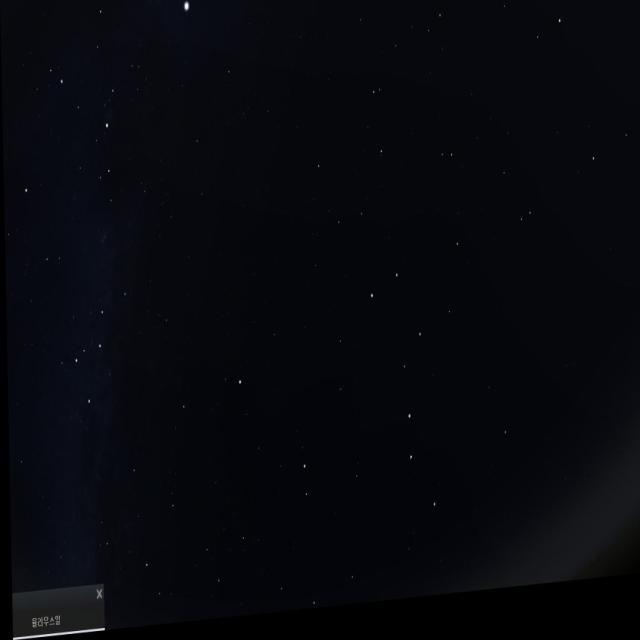cassiopeia: (67, 275, 141, 423)
ursa_major: (364, 266, 446, 535)
